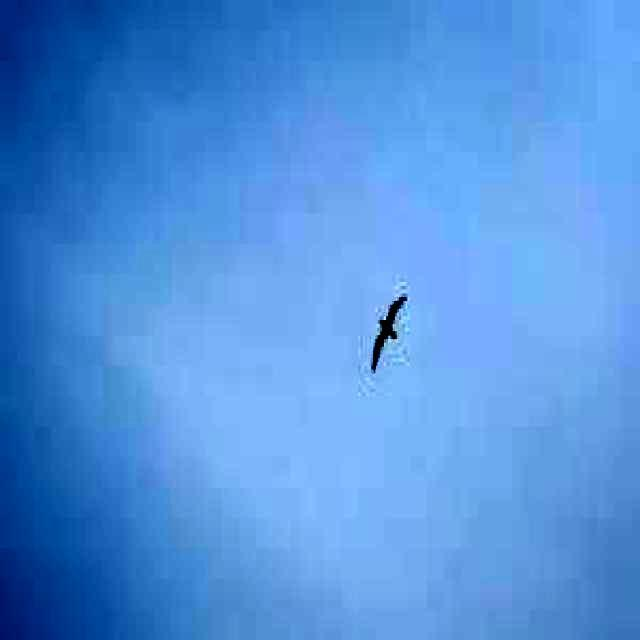bird: (370, 286, 410, 370)
